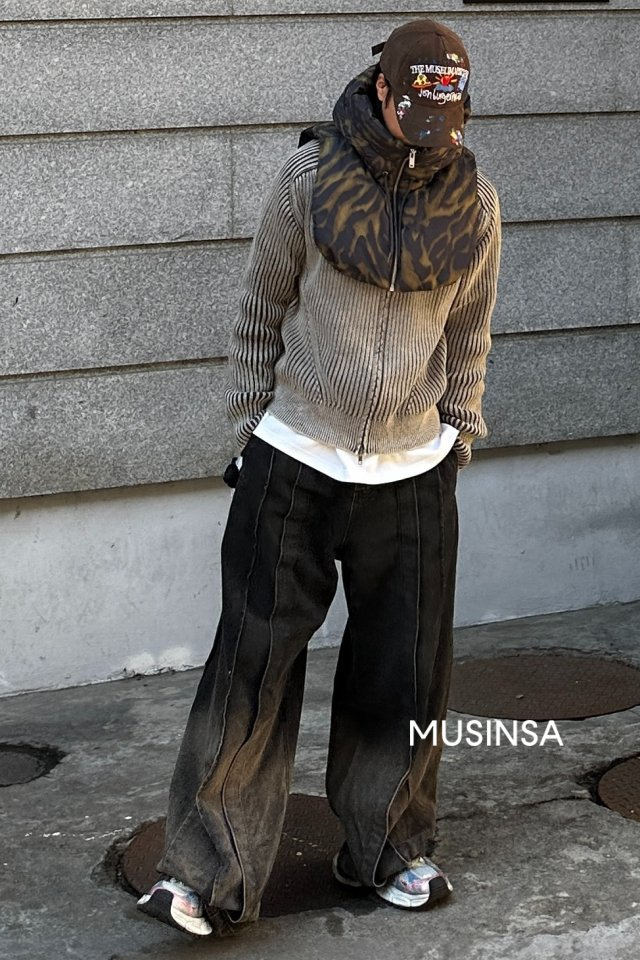Accessories: (326, 75, 475, 294)
Cap: (381, 15, 469, 149)
Jeans: (165, 408, 433, 898)
Outer: (229, 133, 486, 473)
Shoes: (136, 857, 458, 939)
